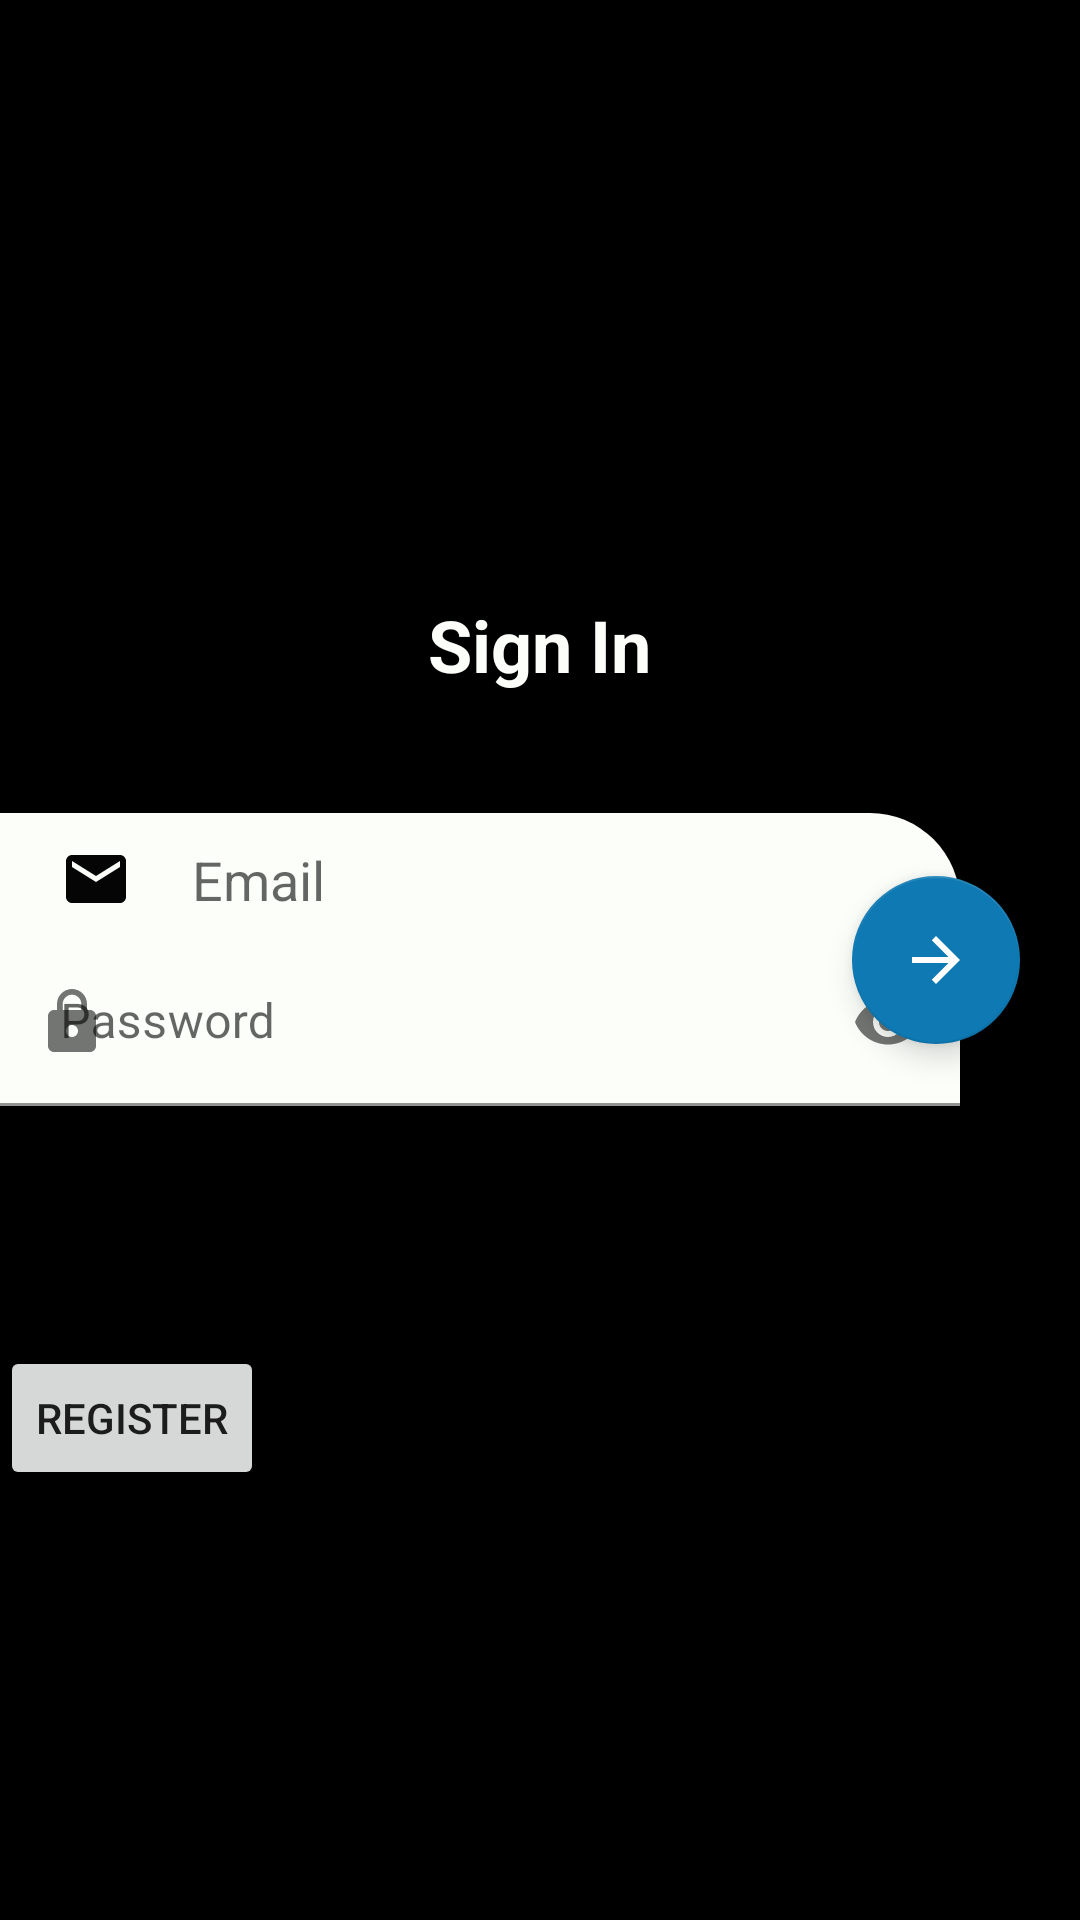

Point at icon controls on the screen. Image size 1080w x 1920h, points as (x=x, y=y).
arrow forward: (x=936, y=960)
